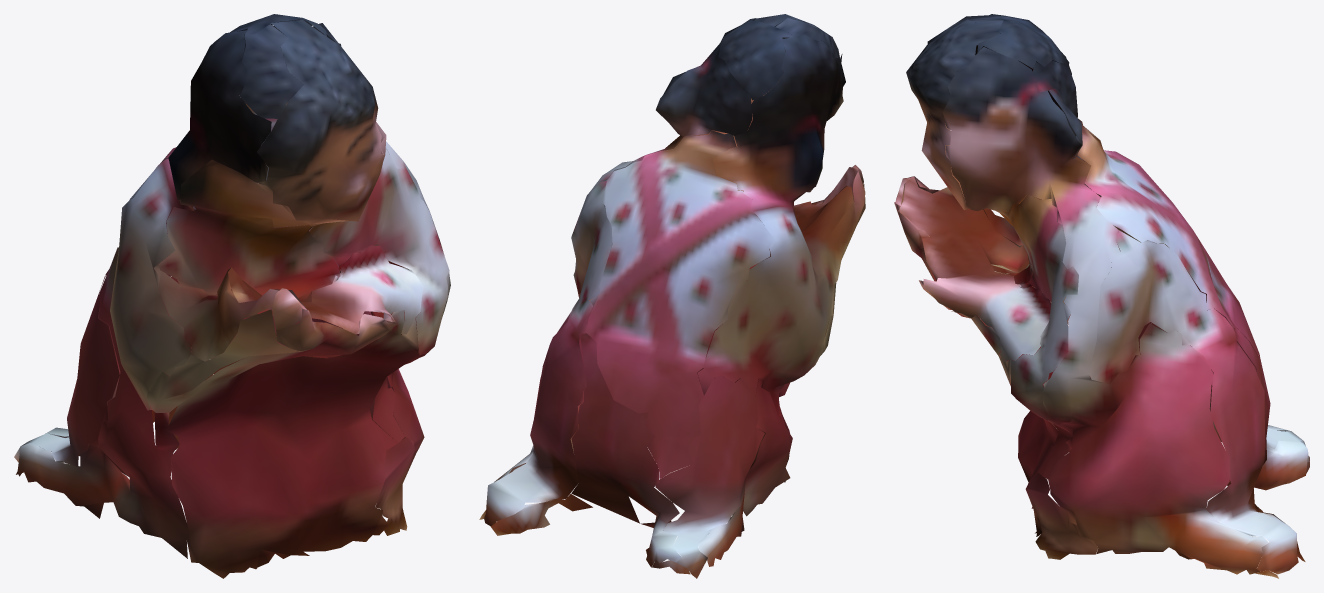
Rendered from dollD.glb.
3 views of the same model, side by side, from view 1: azimuth 30°, elevation 25°; view 2: azimuth 150°, elevation 25°; view 3: azimuth 270°, elevation 25° (orthographic). The views are drawn at different scales.
Visible parts, largest first — view 1: Geom; view 2: Geom; view 3: Geom.
Part boxes in pixels (x1=…): Geom: x1=14, y1=14, x2=450, y2=578; Geom: x1=479, y1=14, x2=865, y2=578; Geom: x1=894, y1=14, x2=1309, y2=578.
Bounding box in the file's own units: 0.0344 × 0.0587 × 0.0469.
1 material, 1 textured.
